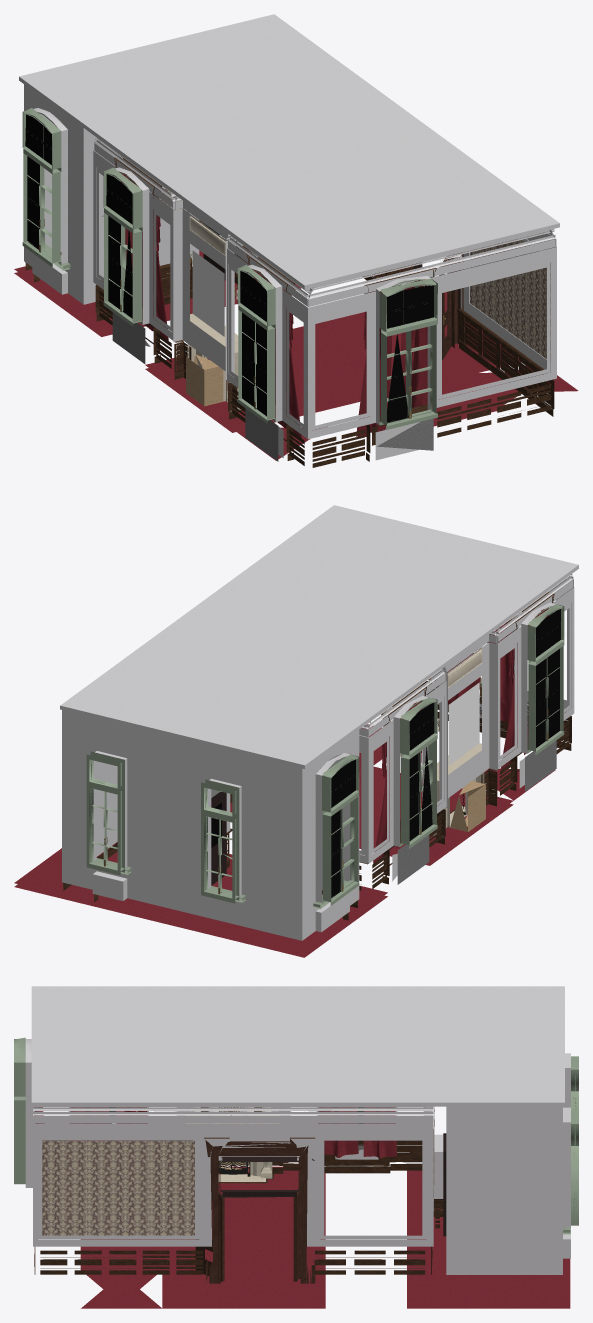
Rendered from vip.glb.
3 views of the same model, one above another, from view 1: azimuth 30°, elevation 25°; view 2: azimuth 150°, elevation 25°; view 3: azimuth 270°, elevation 25° (orthographic). The views are drawn at different scales.
Parts seen in each view (by area): view 1: Object_4, Object_27, Object_14, Object_9, Object_32, Object_16, Object_17, Object_11, Object_19, Object_25, Object_23, Object_28 (+3 smaller); view 2: Object_4, Object_27, Object_14, Object_32, Object_16, Object_9, Object_19, Object_25, Object_11, Object_23, Object_22, Object_12 (+1 smaller); view 3: Object_4, Object_14, Object_17, Object_9, Object_16, Object_28, Object_27, Object_11, Object_30, Object_22.
Part boxes in pixels (x1,y1,x2,y2): Object_4: [19, 14, 559, 439]; Object_27: [22, 108, 437, 429]; Object_14: [14, 250, 578, 460]; Object_9: [25, 156, 554, 467]; Object_32: [25, 114, 433, 423]; Object_16: [94, 138, 555, 430]; Object_17: [101, 188, 550, 362]; Object_11: [121, 173, 427, 436]; Object_19: [112, 312, 433, 461]; Object_25: [192, 250, 224, 336]; Object_23: [186, 354, 223, 406]; Object_28: [374, 252, 466, 360]; Object_4: [60, 505, 578, 940]; Object_27: [86, 604, 564, 909]; Object_14: [14, 724, 555, 957]; Object_32: [211, 609, 560, 897]; Object_16: [359, 575, 573, 855]; Object_9: [63, 592, 571, 920]; Object_19: [397, 696, 556, 884]; Object_25: [448, 682, 479, 765]; Object_11: [373, 609, 548, 863]; Object_23: [450, 781, 485, 831]; Object_22: [422, 648, 484, 837]; Object_12: [382, 608, 549, 855]; Object_4: [25, 986, 570, 1274]; Object_14: [80, 1166, 570, 1308]; Object_17: [42, 1107, 434, 1235]; Object_9: [34, 1140, 443, 1274]; Object_16: [33, 1106, 433, 1239]; Object_28: [195, 1137, 315, 1283]; Object_27: [14, 1037, 578, 1234]; Object_11: [35, 1107, 396, 1158]; Object_30: [221, 1133, 446, 1236]; Object_22: [185, 1115, 280, 1181].
Size of the model in its own units: 8.12 by 4.92 by 13.61.
26 materials, 22 textured.
